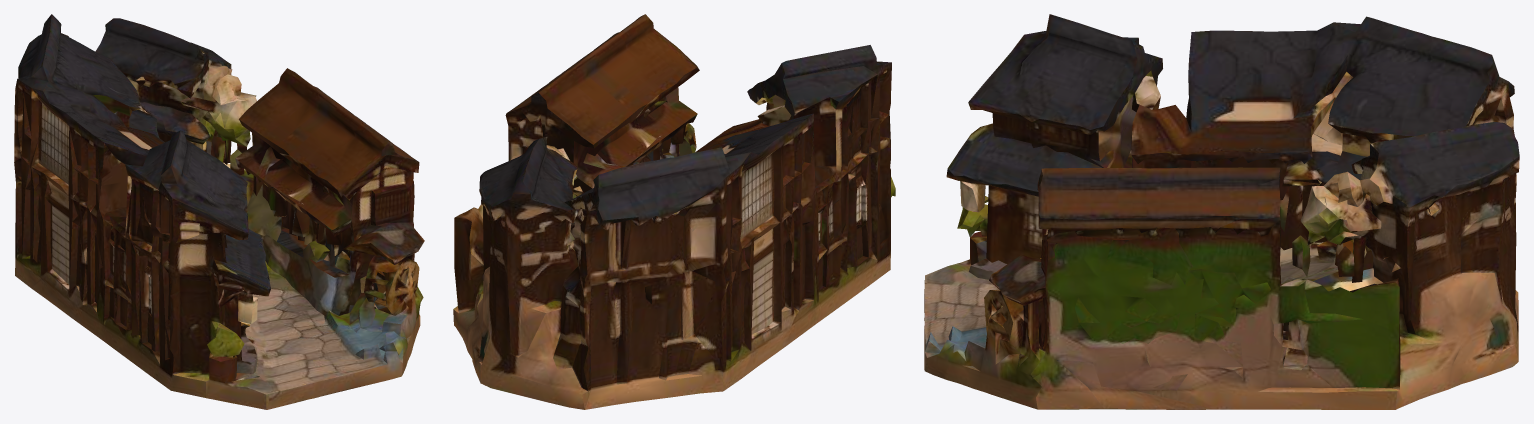
The model's file is tsumago-juku.glb.
3 renders of one model, left to right at view 1: azimuth 30°, elevation 25°; view 2: azimuth 150°, elevation 25°; view 3: azimuth 270°, elevation 25°, orthographic. The views are drawn at different scales.
Parts seen in each view (by area): view 1: logan-textured.obj; view 2: logan-textured.obj; view 3: logan-textured.obj.
Boxes of the visible parts, box(x1,y1,x2,y2) form: logan-textured.obj: box(14, 14, 424, 409); logan-textured.obj: box(453, 14, 895, 409); logan-textured.obj: box(924, 14, 1519, 409).
Size of the model in its own units: 0.5884 by 0.4761 by 1.
1 material, 1 textured.
